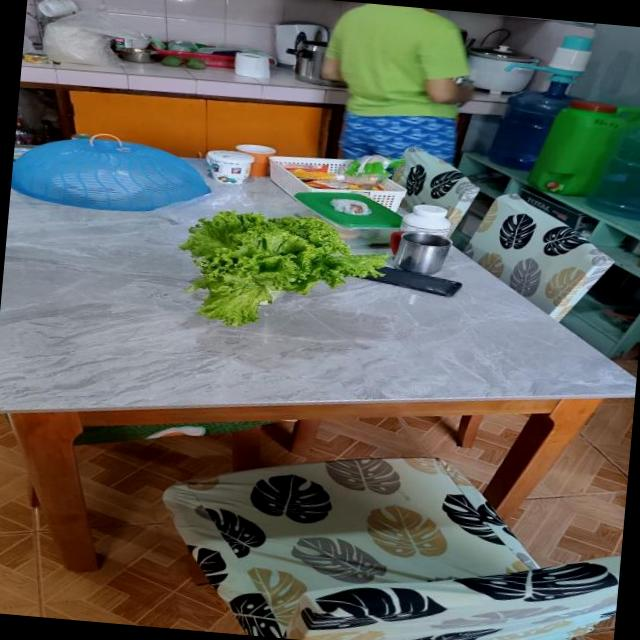Lettuce-Ready-to-Harvest: (180, 212, 383, 327)
